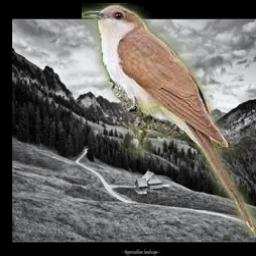Cuckoo: (83, 3, 256, 238)
